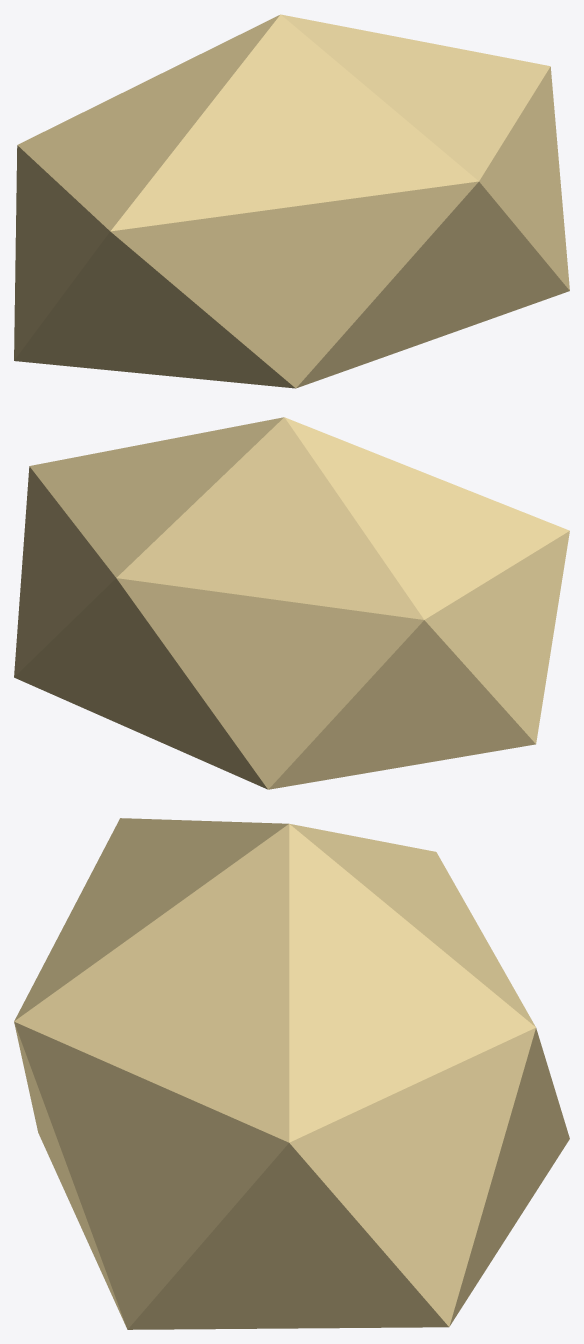
File: item_064_lentil_seed_s.glb
3 views of the same model, one above another, from view 1: azimuth 30°, elevation 25°; view 2: azimuth 150°, elevation 25°; view 3: azimuth 270°, elevation 25° (orthographic). The views are drawn at different scales.
Parts seen in each view (by area): view 1: item_064_lentil_seed_s; view 2: item_064_lentil_seed_s; view 3: item_064_lentil_seed_s.
Part boxes in pixels (<box>): item_064_lentil_seed_s: <box>14,14,569,388</box>; item_064_lentil_seed_s: <box>14,417,569,789</box>; item_064_lentil_seed_s: <box>14,818,569,1329</box>.
Bounding box in the file's own units: 0.3146 × 0.2021 × 0.2207.
